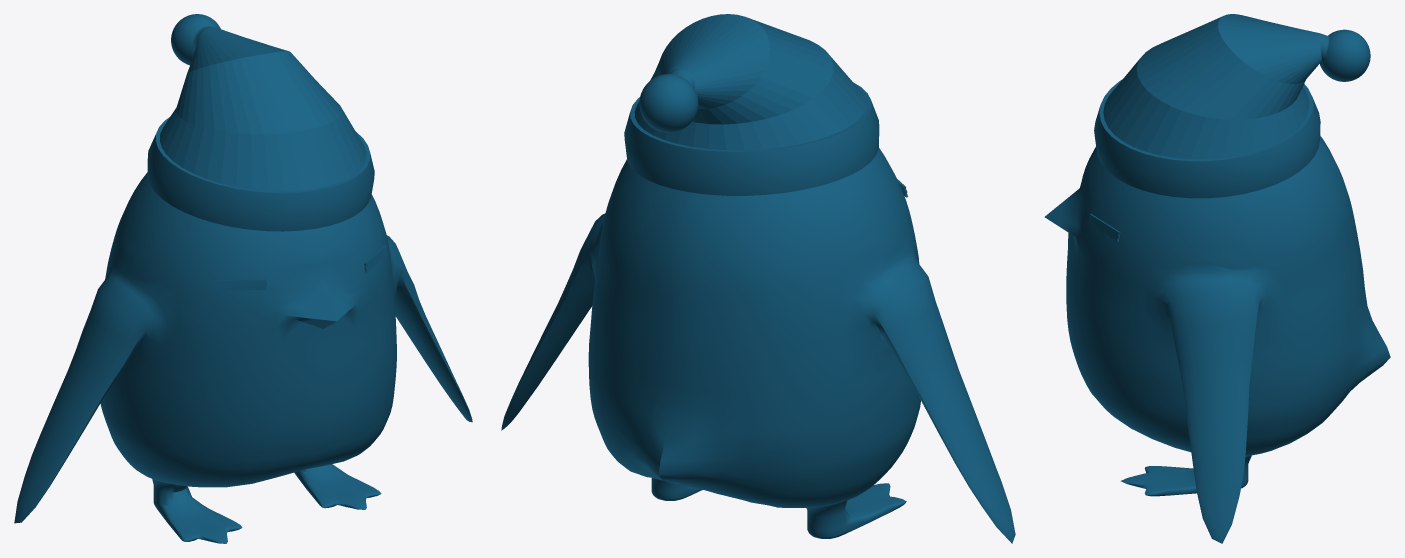
File: penguin_blue_idle_30f.fbx
3 views of the same model, side by side, from view 1: azimuth 30°, elevation 25°; view 2: azimuth 150°, elevation 25°; view 3: azimuth 270°, elevation 25° (orthographic). The views are drawn at different scales.
Visible parts, largest first — view 1: ppp_30, bousi, ai; view 2: ppp_30, bousi; view 3: ppp_30, bousi.
Part boxes in pixels (x1,y1,x2,y2): ppp_30: (14,172,472,543); bousi: (147,14,374,231); ai: (212,245,387,290); ppp_30: (501,148,1015,543); bousi: (624,14,879,195); ppp_30: (1044,136,1390,543); bousi: (1094,14,1370,198).
Bounding box in the file's own units: 21.97 × 20.11 × 14.56.
1 material, 1 textured.
